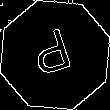P_S: (29, 26, 81, 84)
